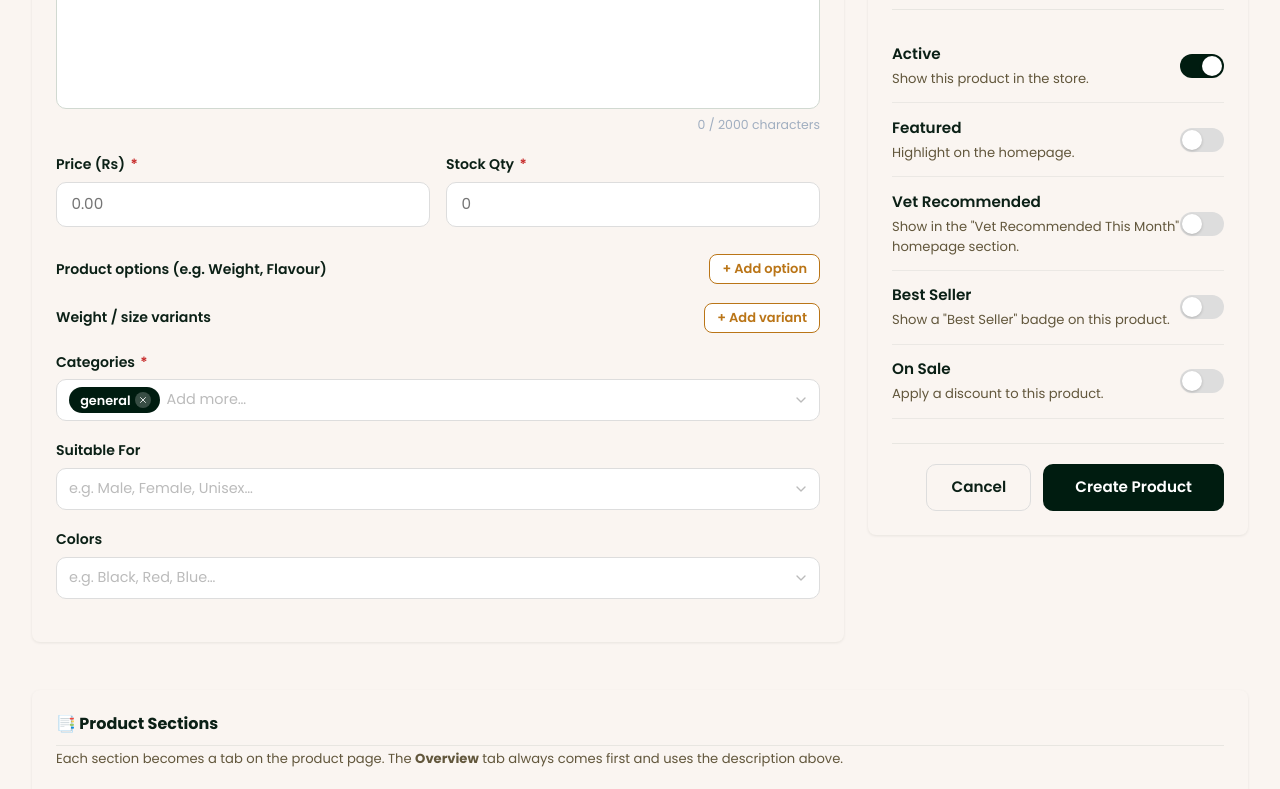
Scenario: AdminProductForm — option matrix › loads filter-options and passes suggestions to CreatableTagSelect
This screenshot has width=1280, height=789.
(page scrolled)
Note: Open the Categories dropdown and confirm API-fetched values appear
Focus the dropdown with placeholder "Add more…" at (476, 400), box [166,389,786,411]
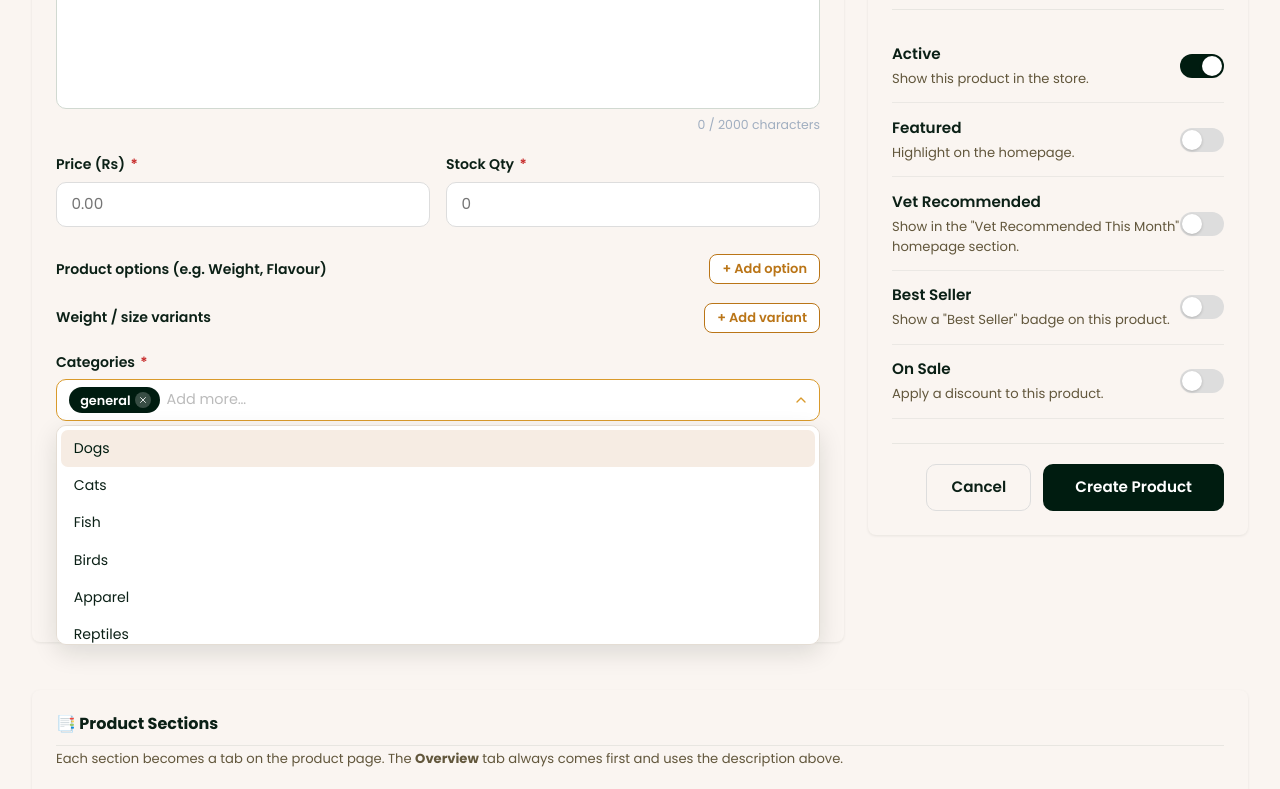
Expected: the option "reptiles" is shown, [74,624,129,644]
